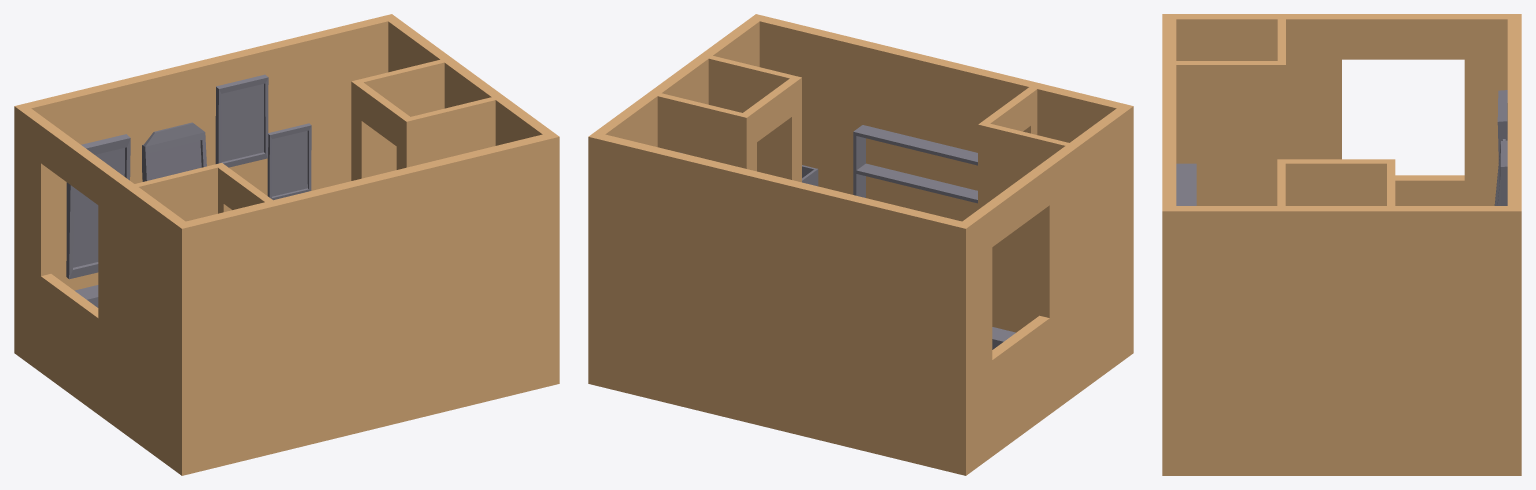
File: S_Lounge_Furnished.glb
The picture shows the model from 3 angles, left to right: view 1: azimuth 30°, elevation 25°; view 2: azimuth 150°, elevation 25°; view 3: azimuth 270°, elevation 25°; orthographic projection. The views are drawn at different scales.
Visible parts, largest first — view 1: Cube.031; view 2: Cube.031; view 3: Cube.031.
Part boxes in pixels (bbox=[...]): Cube.031: bbox=[14, 14, 559, 475]; Cube.031: bbox=[588, 14, 1133, 475]; Cube.031: bbox=[1162, 14, 1521, 475].
Bounding box in the file's own units: 4.23 × 2.67 × 3.25.
